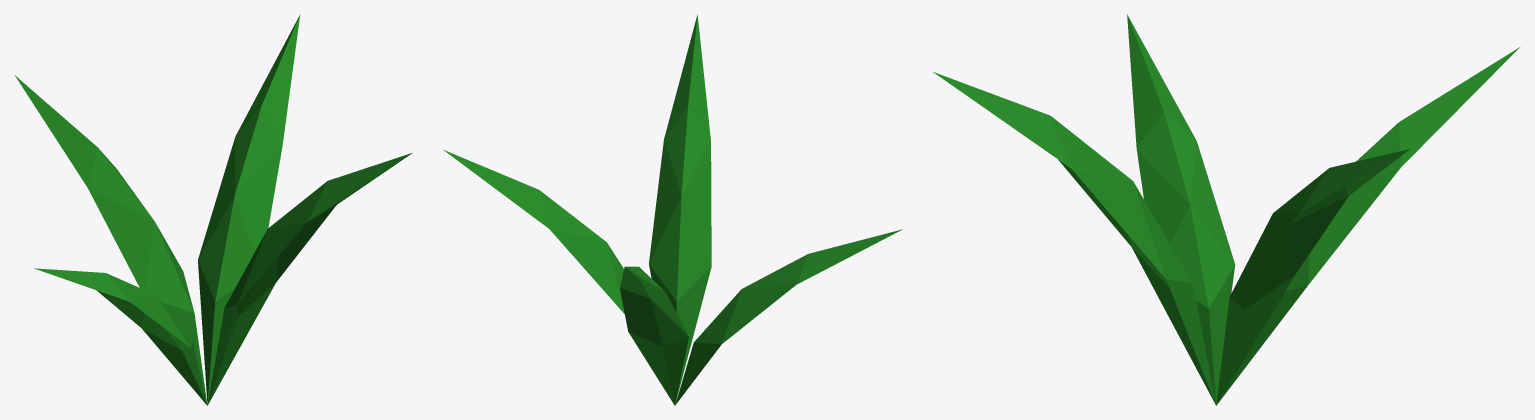
The model's file is Hilly_Prop_Grass_Clump_2.obj.
3 views of the same model, side by side, from view 1: azimuth 30°, elevation 25°; view 2: azimuth 150°, elevation 25°; view 3: azimuth 270°, elevation 25° (orthographic). The views are drawn at different scales.
Visible parts, largest first — view 1: object3, object2, object4, object1; view 2: object4, object1, object2, object3; view 3: object1, object4, object3, object2.
Boxes of the visible parts, bbox=[...] form: object3: bbox=[198, 14, 300, 405]; object2: bbox=[15, 75, 207, 403]; object4: bbox=[207, 153, 412, 404]; object1: bbox=[34, 268, 207, 405]; object4: bbox=[649, 14, 711, 403]; object1: bbox=[675, 229, 902, 405]; object2: bbox=[620, 266, 688, 405]; object3: bbox=[443, 149, 624, 314]; object1: bbox=[1127, 14, 1235, 405]; object4: bbox=[932, 71, 1215, 404]; object3: bbox=[1216, 149, 1409, 405]; object2: bbox=[1217, 47, 1519, 404].
Size of the model in its own units: 0.5778 by 0.4564 by 0.6259.
